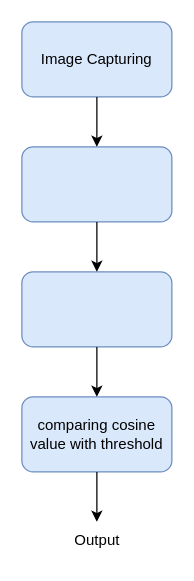
The diagram is 194 pixels wide and 581 high, and some of its shapes have lost their labels. The centre of each missing label's shape, as x and y in pixels:
Comparison using cosine similarity: the point at 96,309
Image Processing via embeddings: the point at 96,184
